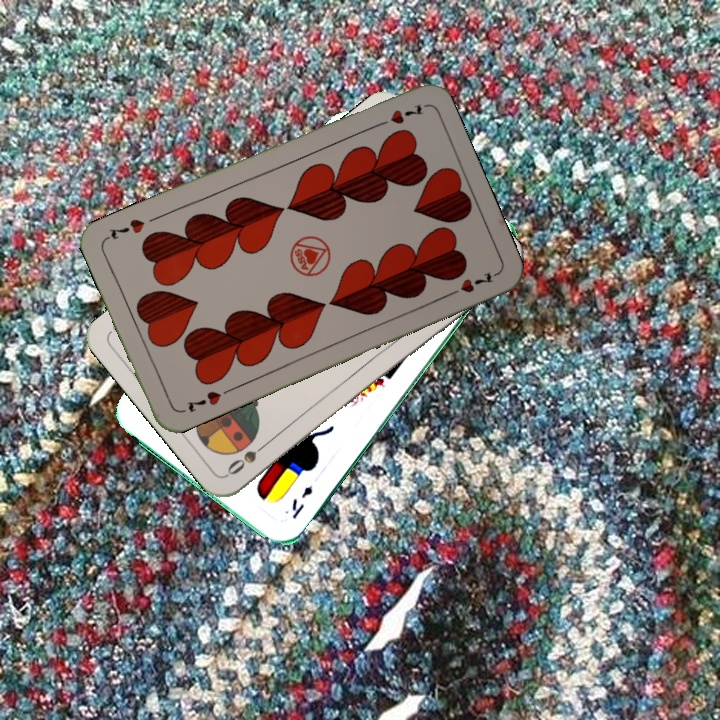EK: (287, 481, 316, 522)
H7: (370, 100, 426, 130), (182, 387, 224, 415)
SO: (223, 436, 273, 478)
